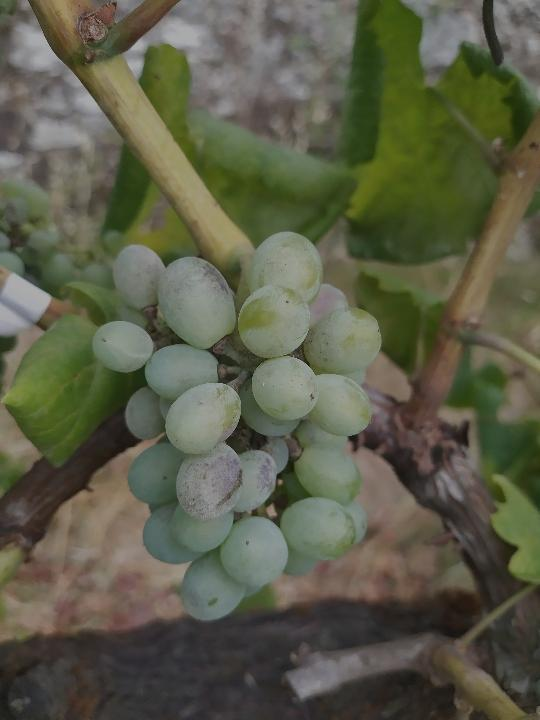grape: (89, 226, 387, 626)
